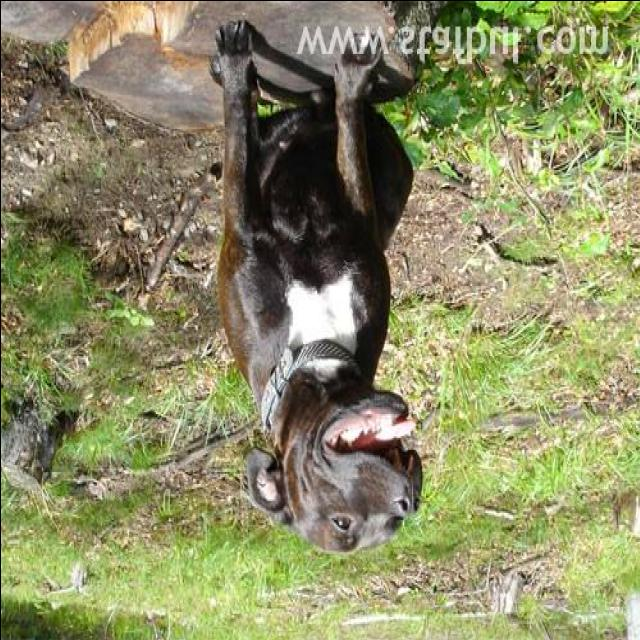staffordshire_bullterrier: (206, 17, 424, 558)
